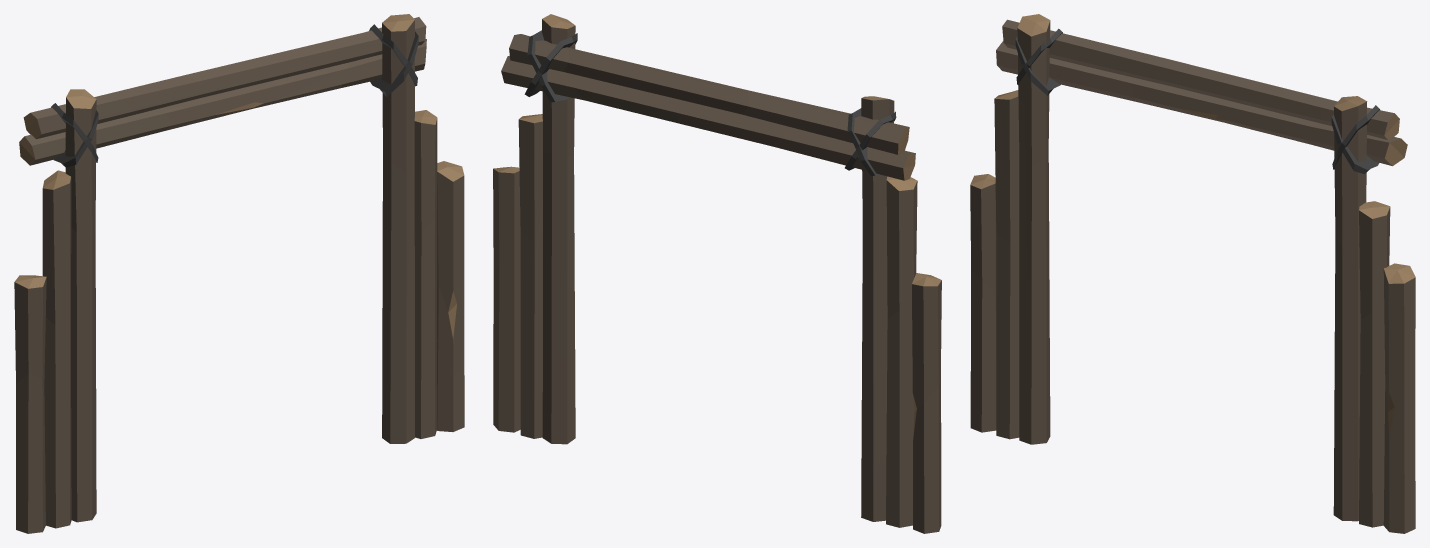
The model's file is SM_Prop_Entrance_01.glb.
The picture shows the model from 3 angles, left to right: view 1: azimuth 30°, elevation 25°; view 2: azimuth 150°, elevation 25°; view 3: azimuth 330°, elevation 25°; orthographic projection.
Parts seen in each view (by area): view 1: SM_Prop_Entrance_01; view 2: SM_Prop_Entrance_01; view 3: SM_Prop_Entrance_01.
Part boxes in pixels (x1,y1,x2,y2): SM_Prop_Entrance_01: (14, 14, 464, 533); SM_Prop_Entrance_01: (493, 14, 941, 533); SM_Prop_Entrance_01: (970, 14, 1415, 533).
Size of the model in its own units: 4.08 by 3.69 by 0.4779.
1 material, 1 textured.
